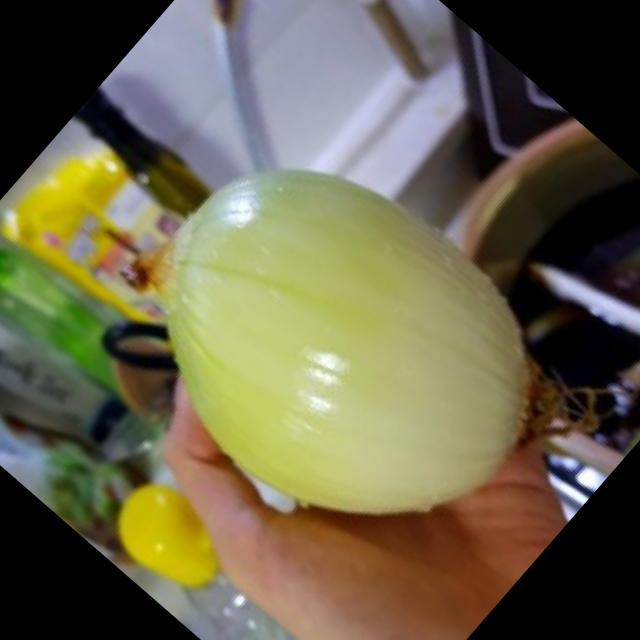Onion: (166, 162, 529, 515)
